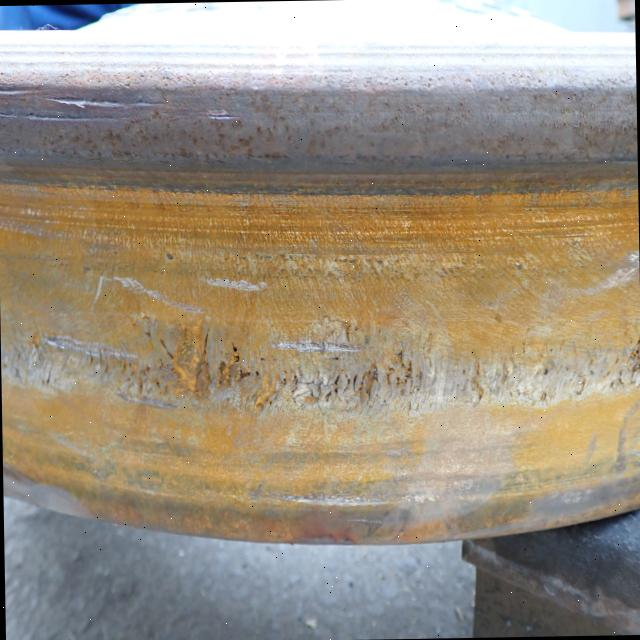Contact_Fatigue_Cracks: (469, 358, 583, 403), (269, 368, 373, 411), (89, 349, 163, 400), (198, 328, 251, 399), (386, 356, 419, 409), (7, 354, 56, 388), (613, 342, 640, 389)
